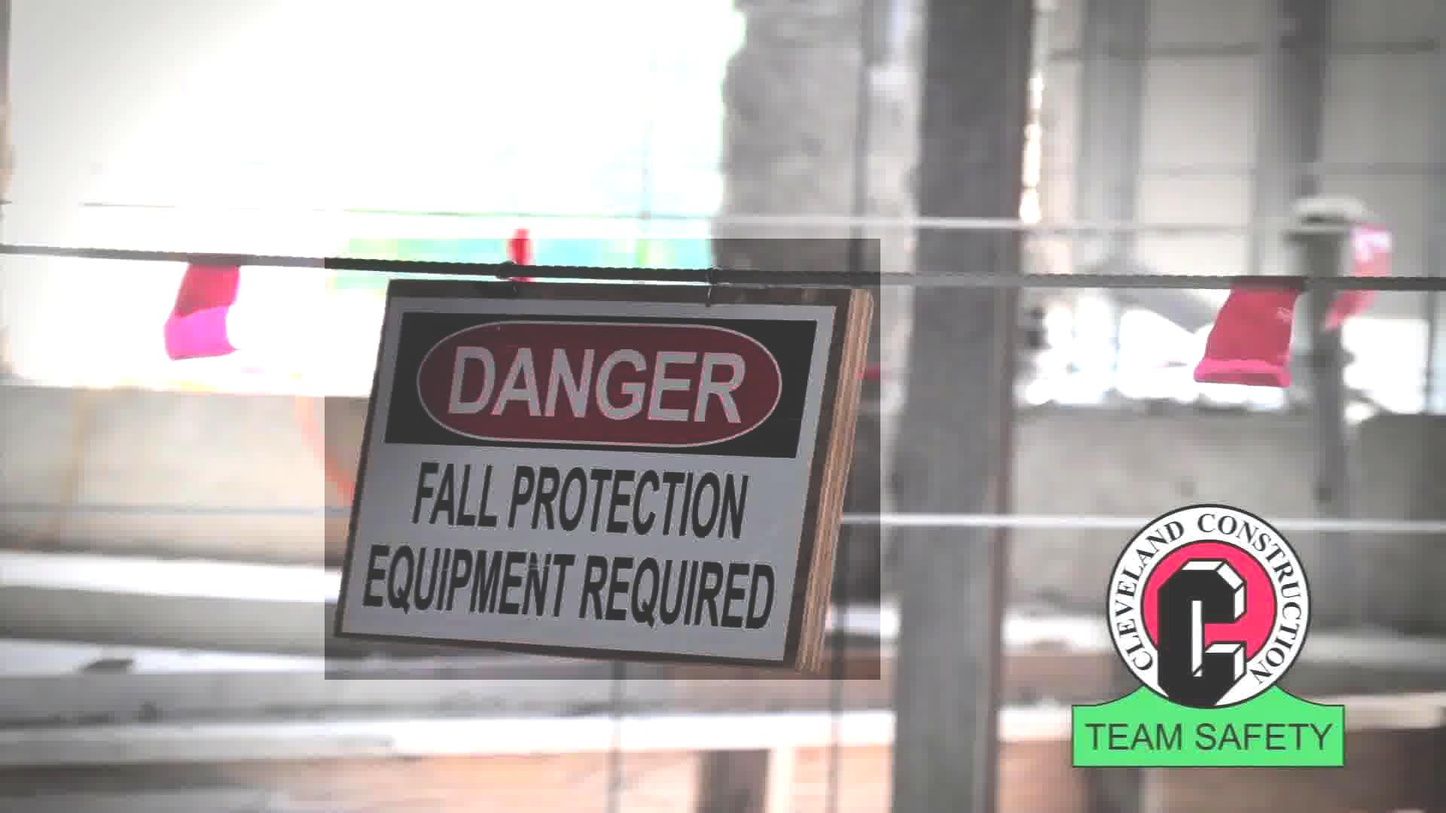safety_signage: (325, 239, 880, 680)
